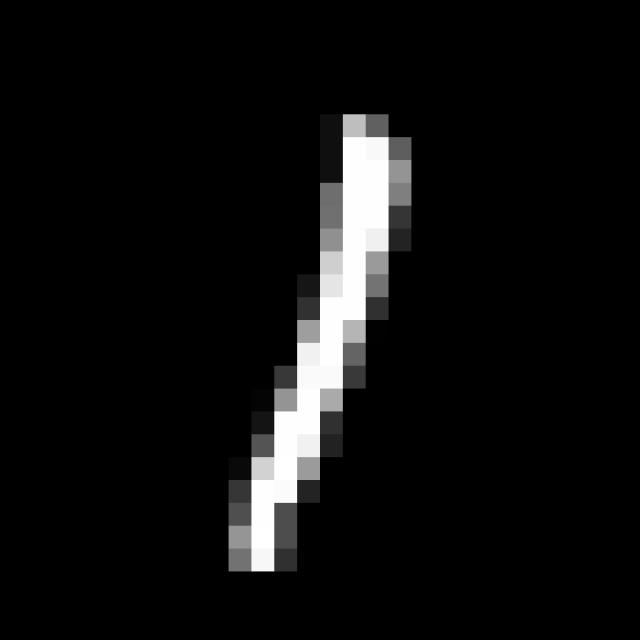one -1-: (210, 89, 439, 592)
